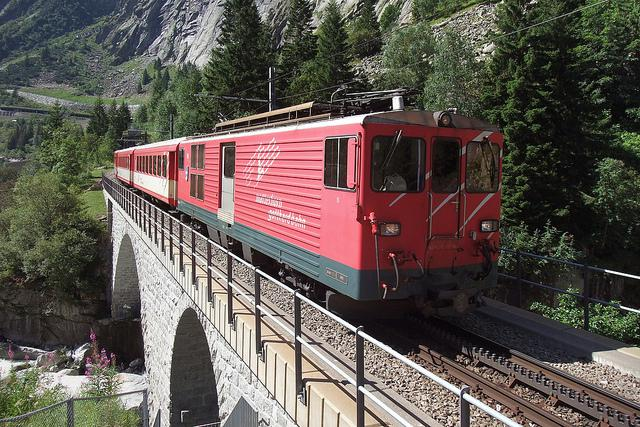Train: (111, 97, 505, 333)
